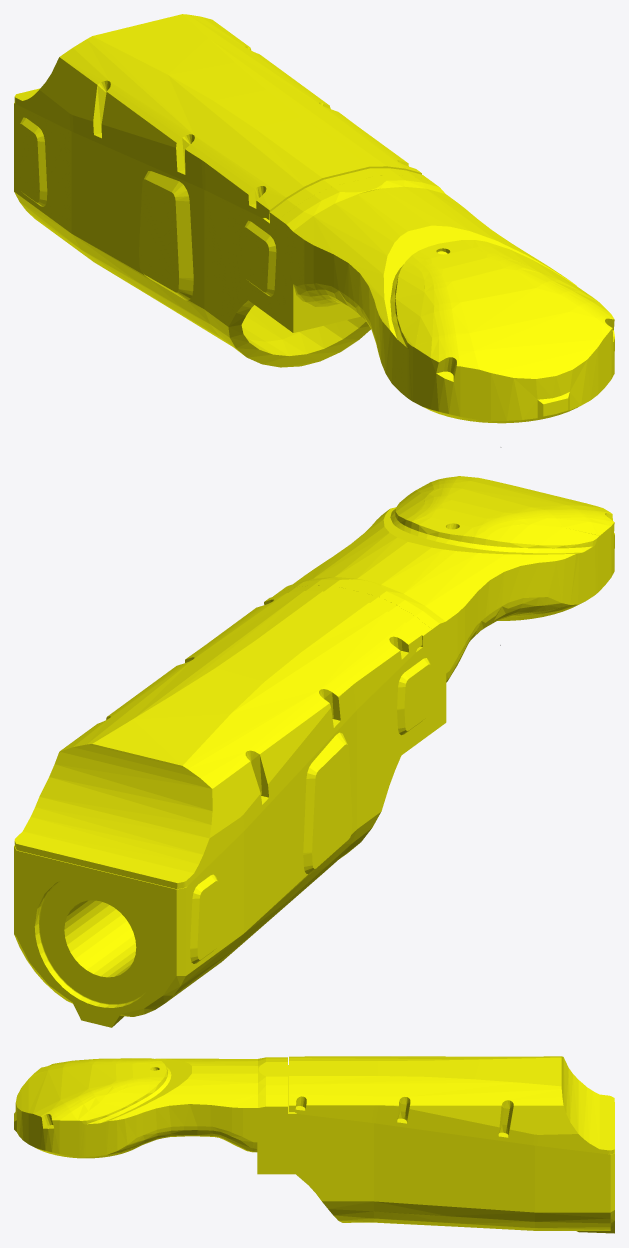
The picture shows the model from 3 angles, top to bottom: view 1: azimuth 30°, elevation 25°; view 2: azimuth 150°, elevation 25°; view 3: azimuth 270°, elevation 25°; orthographic projection. The views are drawn at different scales.
Parts seen in each view (by area): view 1: node; view 2: node; view 3: node.
Part boxes in pixels (x1,y1,x2,y2): node: [14, 14, 614, 447]; node: [14, 476, 614, 1027]; node: [14, 1056, 614, 1233].
Bounding box in the file's own units: 158 × 198 × 675.
